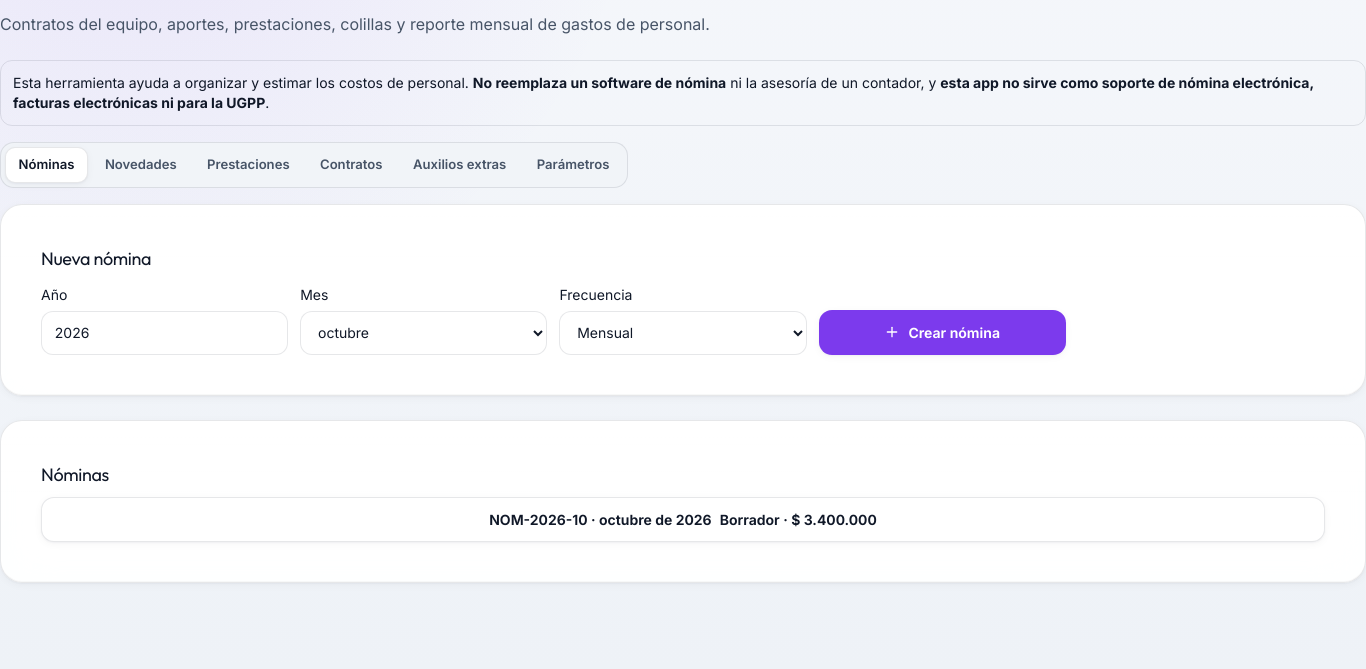
creates a run, opens it and shows the breakdown, notes and per-employee actions
This screenshot has width=1366, height=669.
Click the button with test id "create-run". click: (942, 332)
box: [819, 310, 1066, 355]
(page scrolled)
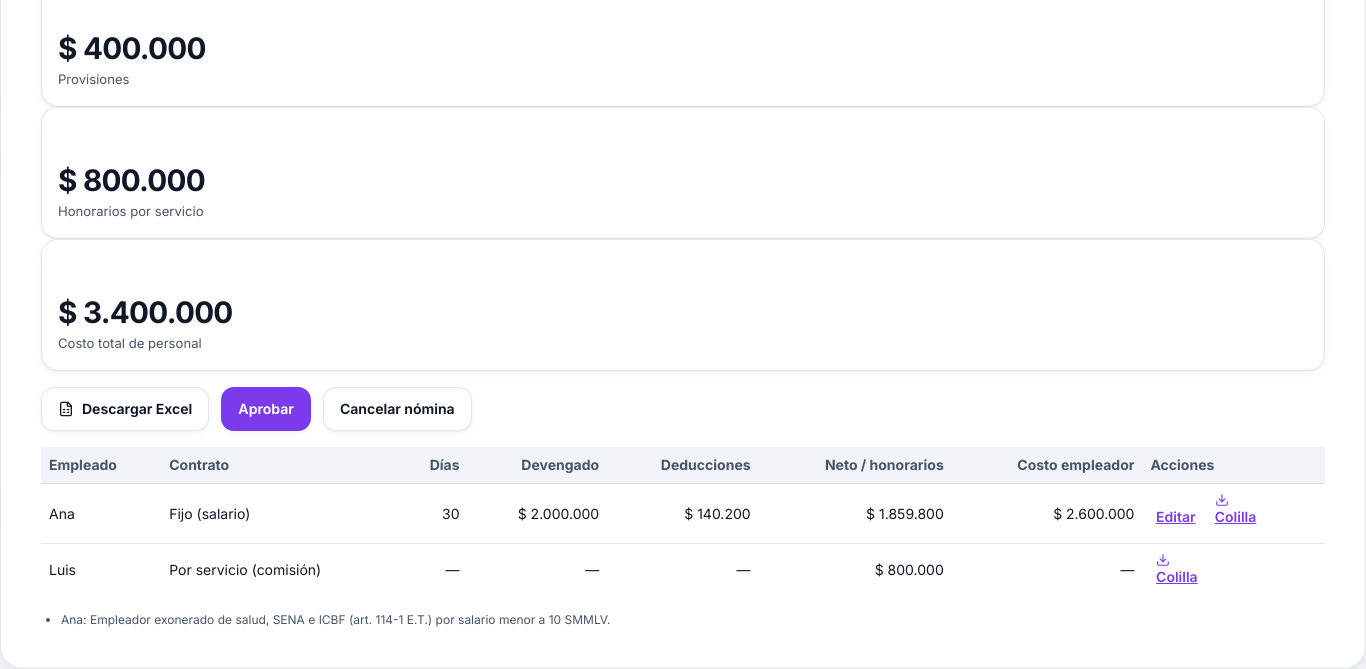
Check: the element with test id "run-detail" shows "Costo total de personal", box [58, 335, 202, 351]
Check: the element with test id "run-detail" shows "Empleador exonerado", box [90, 612, 610, 627]
Check: the row that starts with "Ana" shows "Fijo (salario)", box [169, 505, 250, 522]
